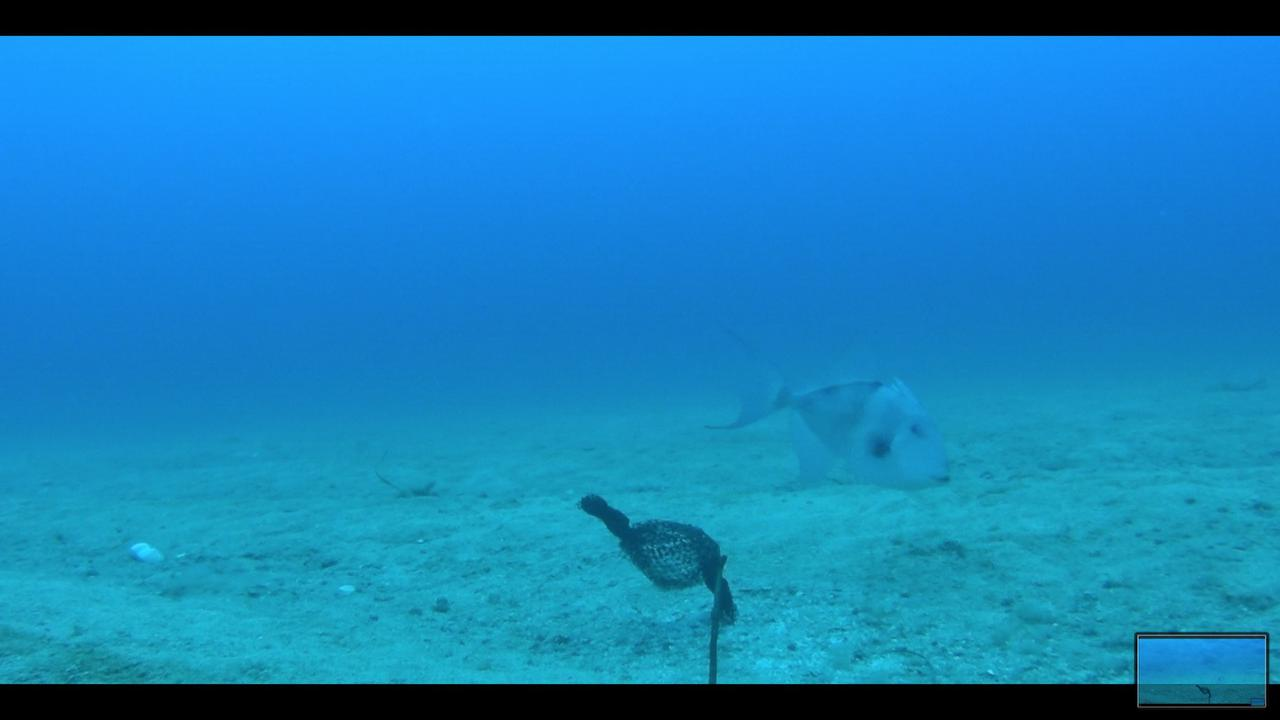balistes: (700, 328, 957, 490)
